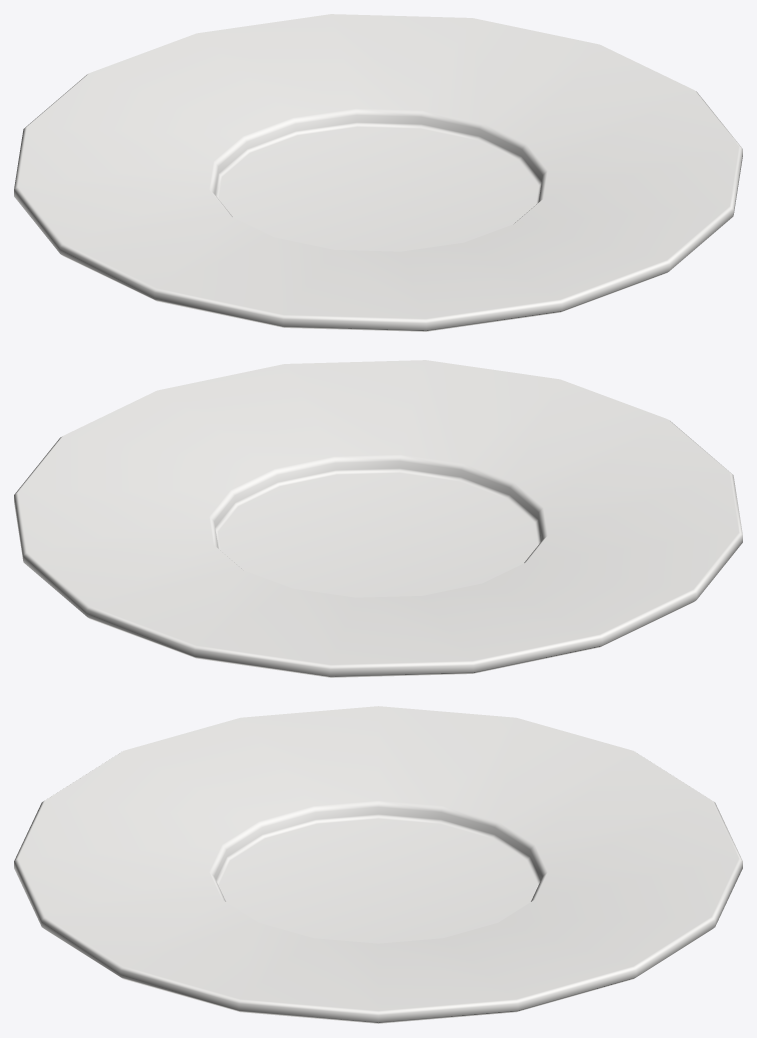
Rendered from Plate_1.glb.
3 views of the same model, one above another, from view 1: azimuth 30°, elevation 25°; view 2: azimuth 150°, elevation 25°; view 3: azimuth 270°, elevation 25° (orthographic).
Visible parts, largest first — view 1: Plate_1; view 2: Plate_1; view 3: Plate_1.
Part boxes in pixels (box(x1,y1,x2,y2)): Plate_1: box(14, 14, 742, 331); Plate_1: box(14, 360, 742, 677); Plate_1: box(14, 706, 742, 1023).
Size of the model in its own units: 0.1834 by 0.0114 by 0.1834.
Materials: 1 (1 with a texture image).
